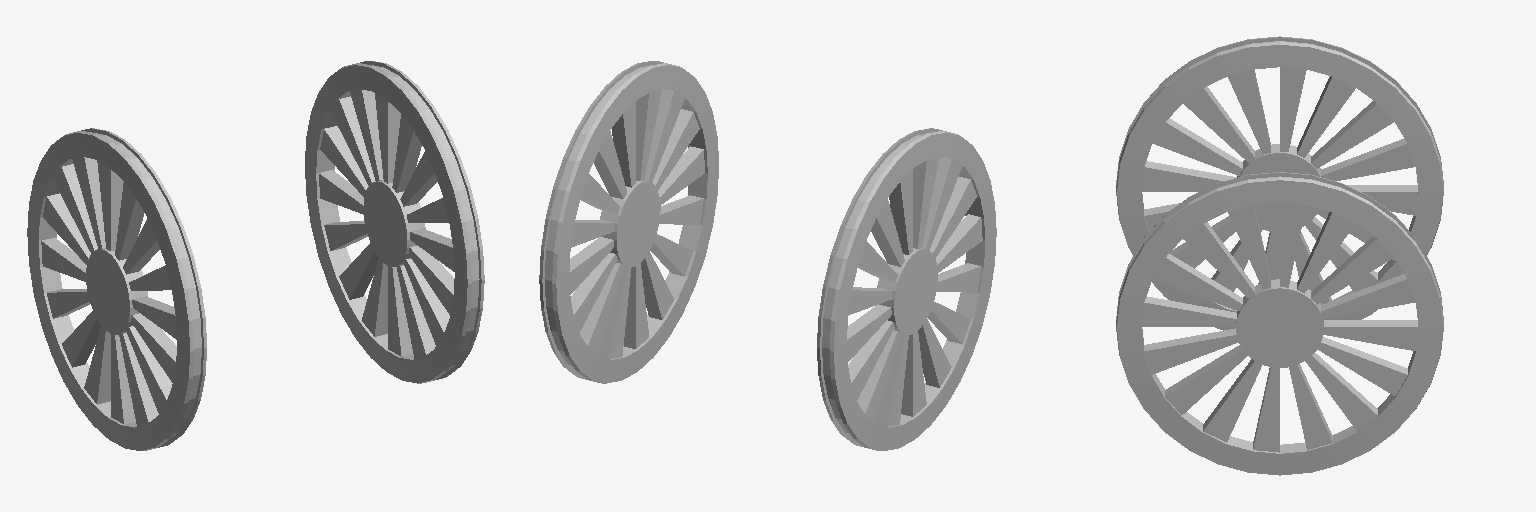
File: train_roues2_obj.obj
3 views of the same model, side by side, from view 1: azimuth 30°, elevation 25°; view 2: azimuth 150°, elevation 25°; view 3: azimuth 270°, elevation 25° (orthographic).
Visible parts, largest first — view 1: pCylinder21_blinnBlack_0; view 2: pCylinder21_blinnBlack_0; view 3: pCylinder21_blinnBlack_0.
Part boxes in pixels (x1,y1,x2,y2): pCylinder21_blinnBlack_0: (27,61,484,450); pCylinder21_blinnBlack_0: (539,61,996,450); pCylinder21_blinnBlack_0: (1116,36,1443,475).
Size of the model in its own units: 38.65 by 37.1 by 37.1.